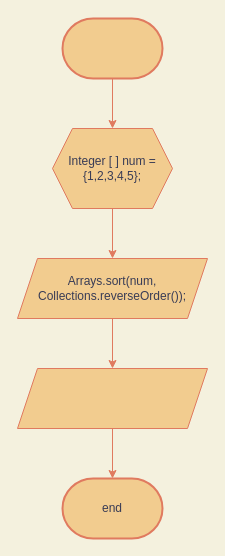
The diagram is 225 pixels wide and 556 high, and some of its shapes have lost their labels. The centre of each missing label's shape, as x and y in pixels:
println(Arrays.toString(num));: the point at 112,398
start: the point at 112,48
